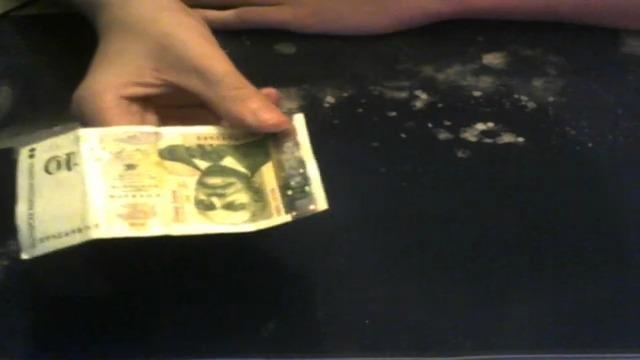10leva: (17, 119, 325, 256)
